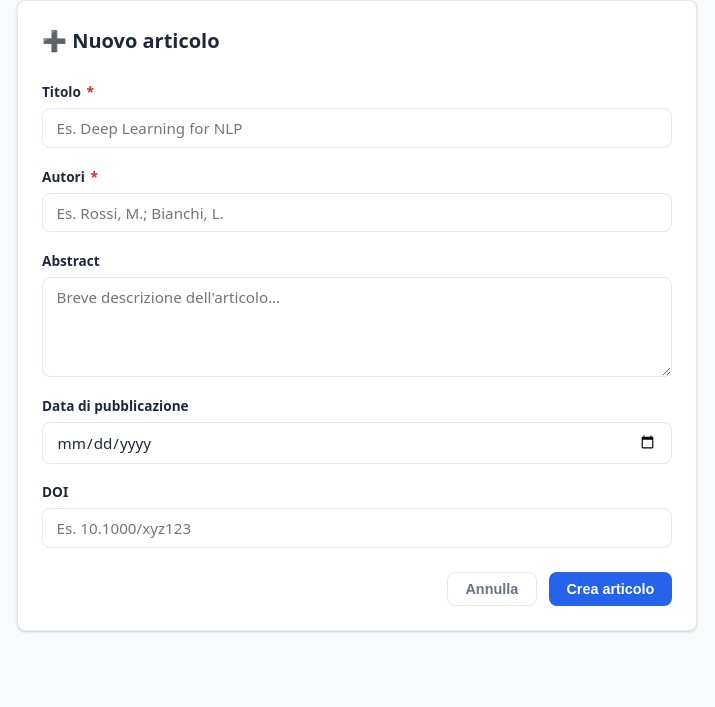
Scenario: PaperForm – creation mode › 2. shows validation error when title is empty on submit
Click the button "Crea articolo": [610, 589] box [549,572,672,606]
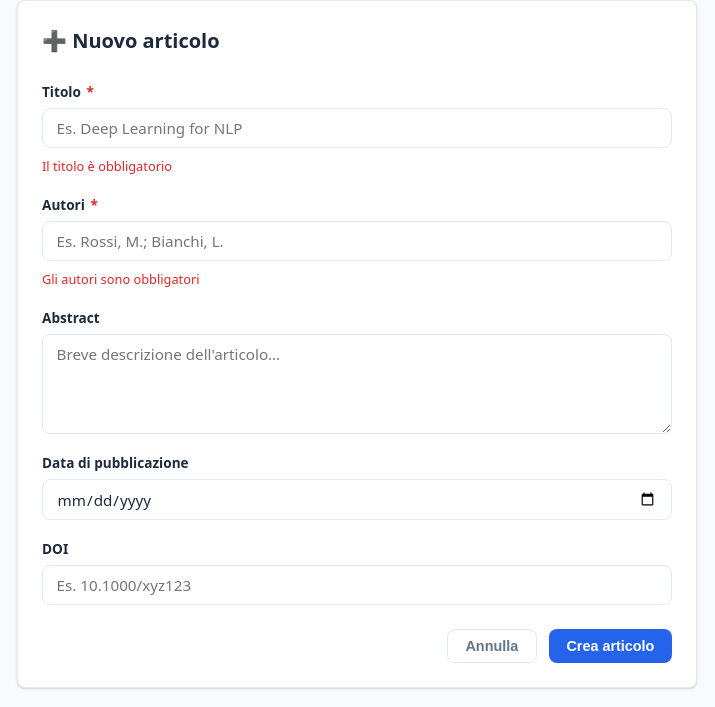
expect the text "Il titolo è obbligatorio" is shown: met, box [42,157,172,175]
